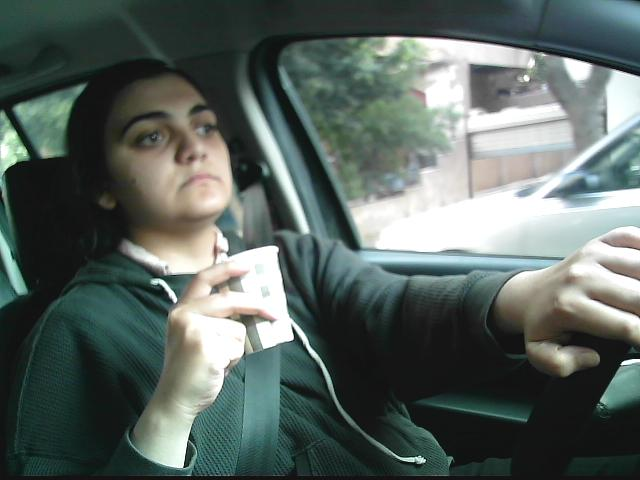Drinking: (198, 238, 300, 358)
